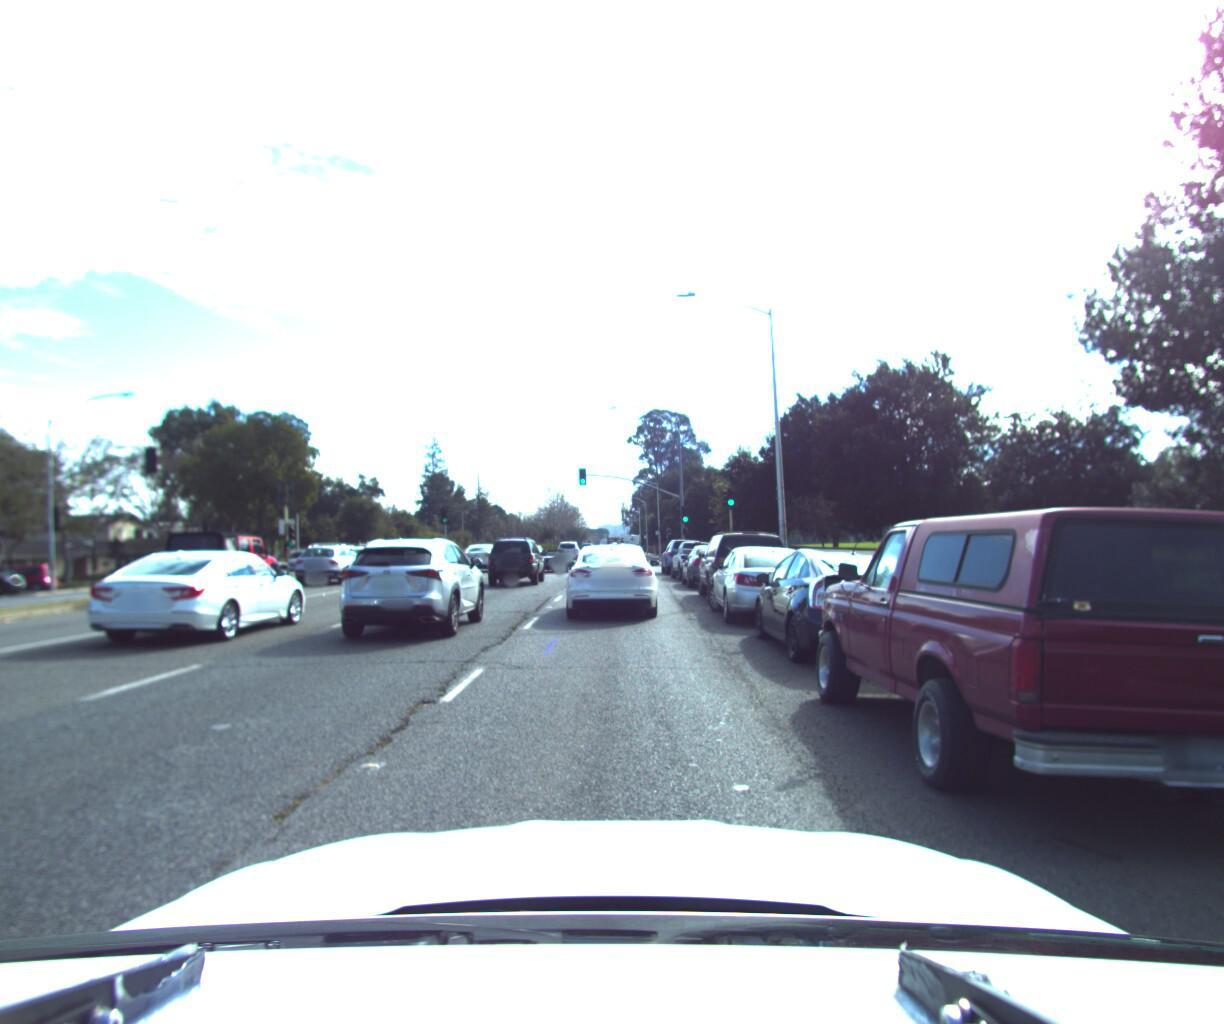car: (795, 486, 1224, 863), (741, 542, 954, 668), (73, 544, 322, 647), (325, 530, 493, 642), (703, 534, 846, 623), (152, 527, 297, 603), (691, 523, 800, 603), (563, 537, 663, 619), (284, 542, 372, 586), (679, 537, 749, 587), (485, 533, 548, 585), (670, 534, 729, 580), (0, 561, 72, 597), (0, 561, 45, 604), (597, 531, 642, 573), (661, 533, 708, 574), (354, 537, 400, 577), (458, 540, 505, 571), (531, 542, 574, 573), (399, 540, 439, 565), (553, 539, 582, 561)
truck: (316, 537, 380, 568)
